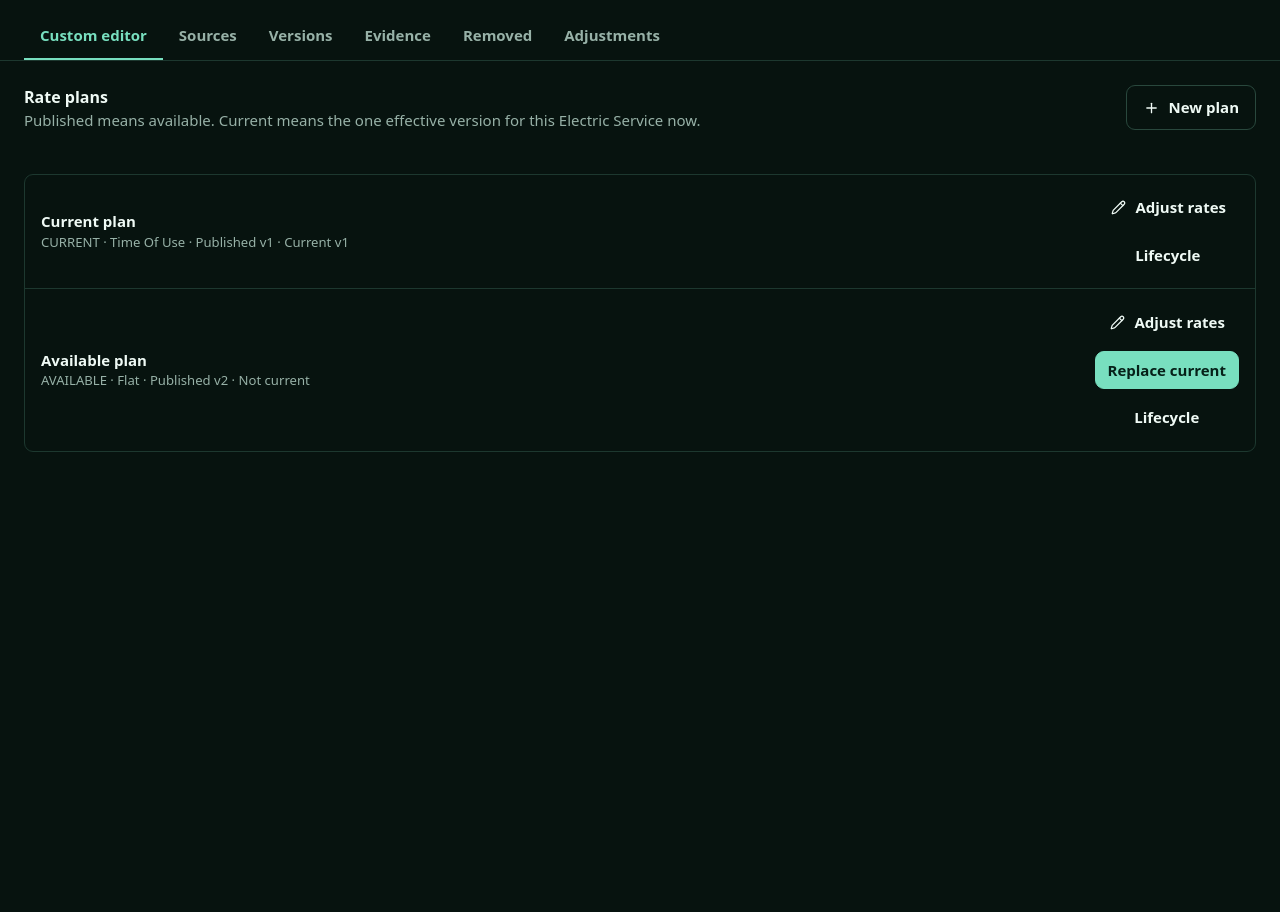
it: rate assignment, version, and source workflows › applies Set as current and refreshes the canonical plan state without a reload
This screenshot has width=1280, height=912.
Step 1. Click the button "Replace current" → x=1167, y=370, box x1=1094 y1=350 x2=1239 y2=389
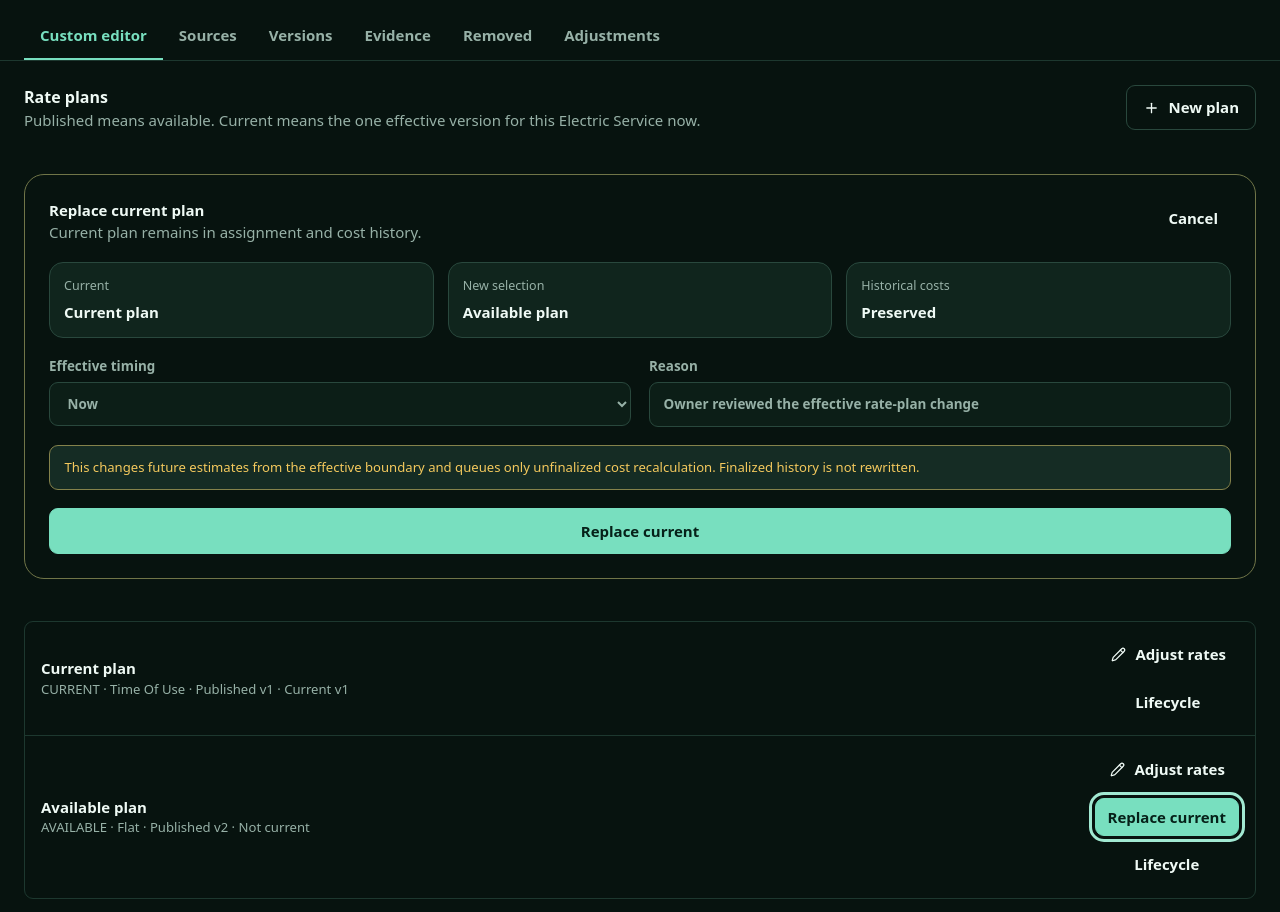
Step 2. Click the button "Replace current" below "Effective timing" → x=640, y=531, box x1=49 y1=508 x2=1231 y2=554
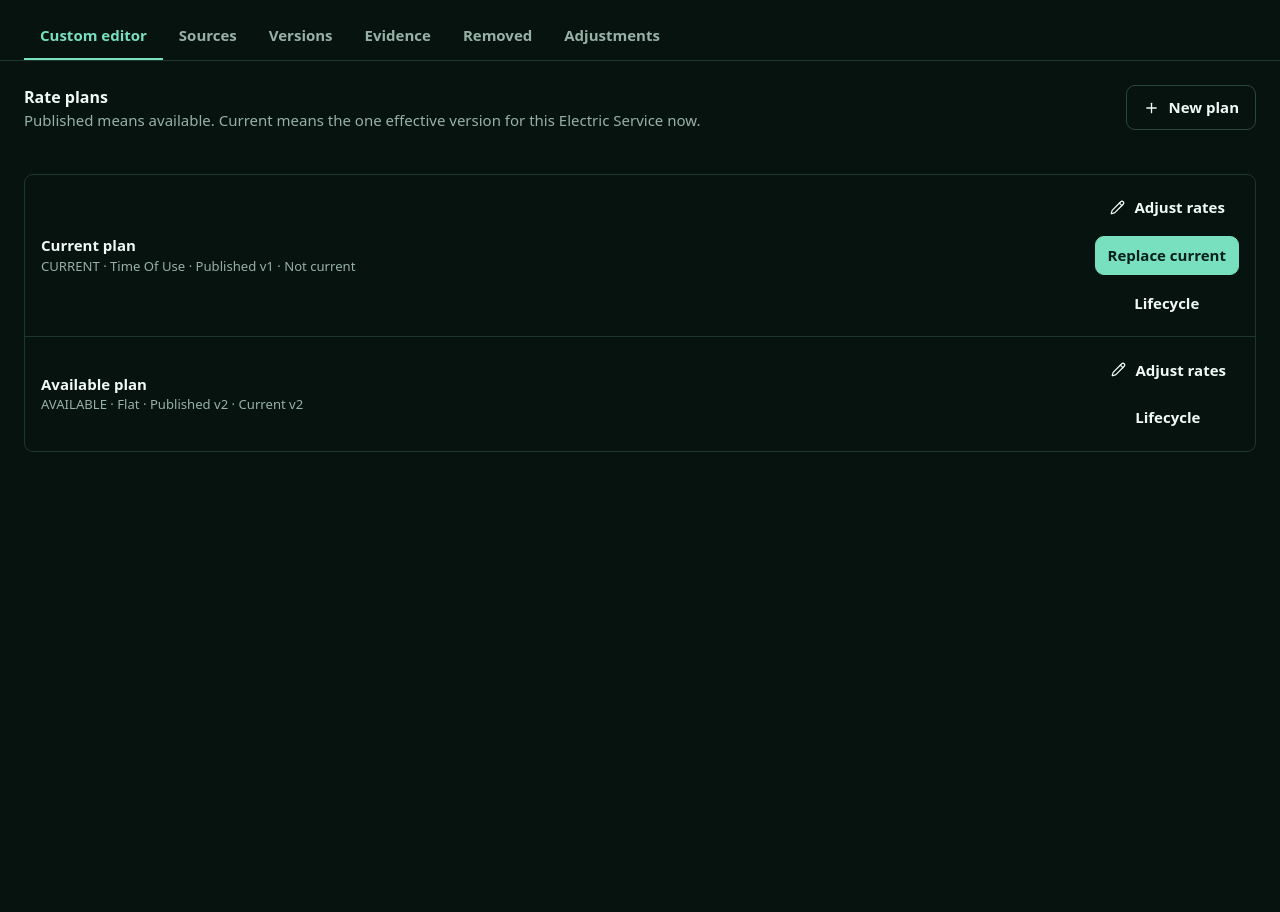
expect the heading "Replace current plan" is gone: met
expect the text "AVAILABLE · Flat · Published v2 · Current v2" is shown: met, box x1=41 y1=395 x2=303 y2=415
